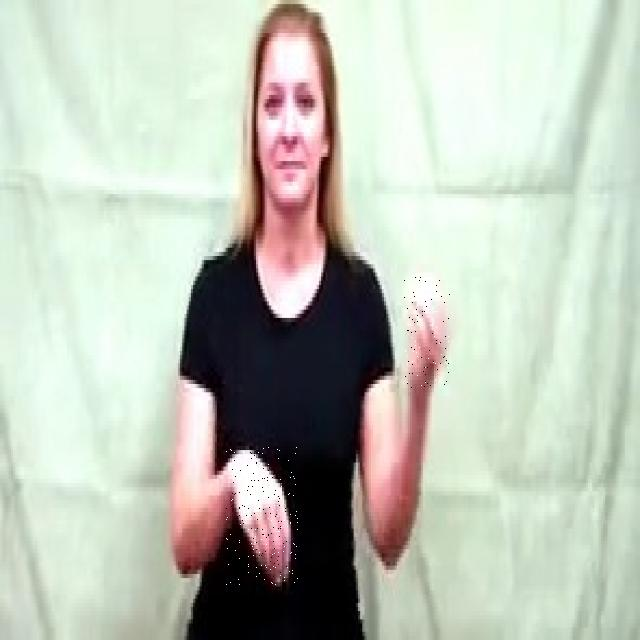ingredients: (226, 446, 298, 586), (404, 273, 450, 388)
